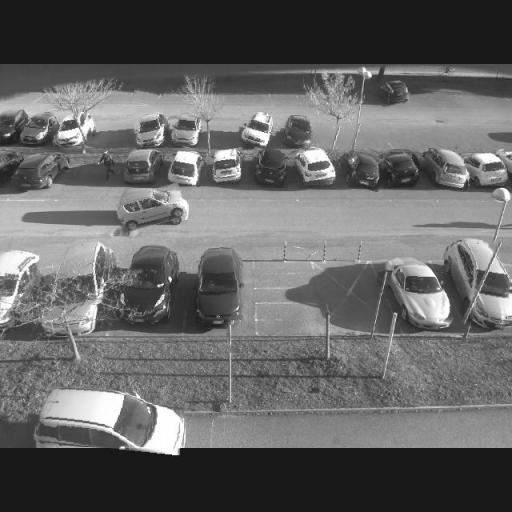busy: (27, 385, 184, 452), (442, 236, 512, 328), (104, 244, 180, 324), (380, 256, 455, 331), (34, 242, 115, 310), (186, 246, 244, 326), (115, 186, 186, 230), (0, 249, 37, 321), (10, 152, 66, 190), (293, 145, 341, 188), (421, 149, 472, 189), (248, 148, 294, 188), (338, 151, 384, 190), (464, 151, 509, 190), (160, 148, 204, 186), (378, 150, 422, 188), (117, 150, 165, 184), (128, 110, 170, 148), (236, 111, 278, 148), (206, 149, 247, 185), (16, 111, 58, 145), (52, 114, 92, 147), (279, 115, 316, 149), (168, 114, 204, 148), (378, 76, 411, 110), (0, 113, 25, 142), (0, 153, 19, 188)
free: (91, 115, 135, 152), (90, 149, 128, 190), (311, 122, 353, 153), (351, 124, 391, 154), (3, 82, 42, 108), (389, 128, 429, 152), (428, 128, 466, 152), (134, 76, 164, 106), (208, 124, 238, 146)
